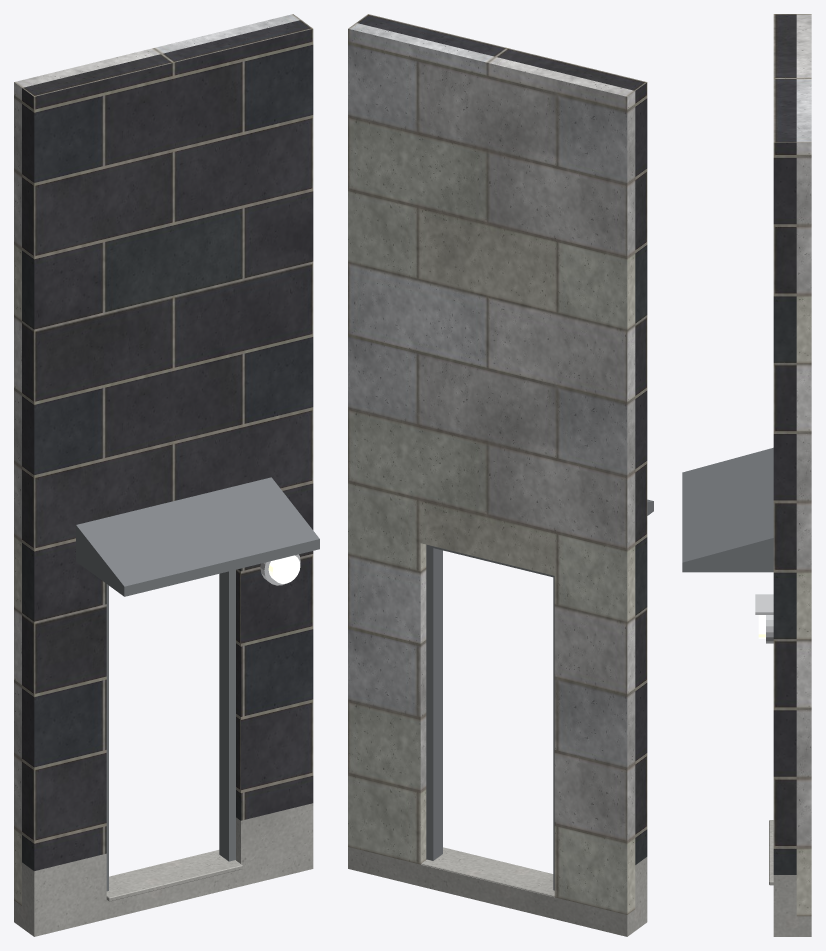
The model's file is k_door.glb.
The picture shows the model from 3 angles, left to right: view 1: azimuth 30°, elevation 25°; view 2: azimuth 150°, elevation 25°; view 3: azimuth 270°, elevation 25°; orthographic projection. The views are drawn at different scales.
Parts seen in each view (by area): view 1: k_door_block_d, k_door_steel_d, k_door_concrete, k_door_block_l, k_door_lamp_glass; view 2: k_door_block_l, k_door_block_d, k_door_concrete, k_door_steel_d; view 3: k_door_block_d, k_door_block_l, k_door_steel_d, k_door_concrete, k_door_metal.
Part boxes in pixels (<box>): k_door_block_d: <box>22,20,313,871</box>; k_door_steel_d: <box>76,477,319,891</box>; k_door_concrete: <box>14,803,313,936</box>; k_door_block_l: <box>14,14,300,905</box>; k_door_lamp_glass: <box>268,555,300,583</box>; k_door_block_l: <box>348,23,635,914</box>; k_door_block_d: <box>356,14,647,864</box>; k_door_concrete: <box>348,847,647,936</box>; k_door_steel_d: <box>426,499,653,890</box>; k_door_block_d: <box>773,14,796,874</box>; k_door_block_l: <box>796,14,811,916</box>; k_door_steel_d: <box>682,447,773,572</box>; k_door_concrete: <box>769,820,811,936</box>; k_door_metal: <box>755,594,773,643</box>.
Bounding box in the file's own units: 2 × 5.75 × 0.85.
Materials: 6 (3 with a texture image).
